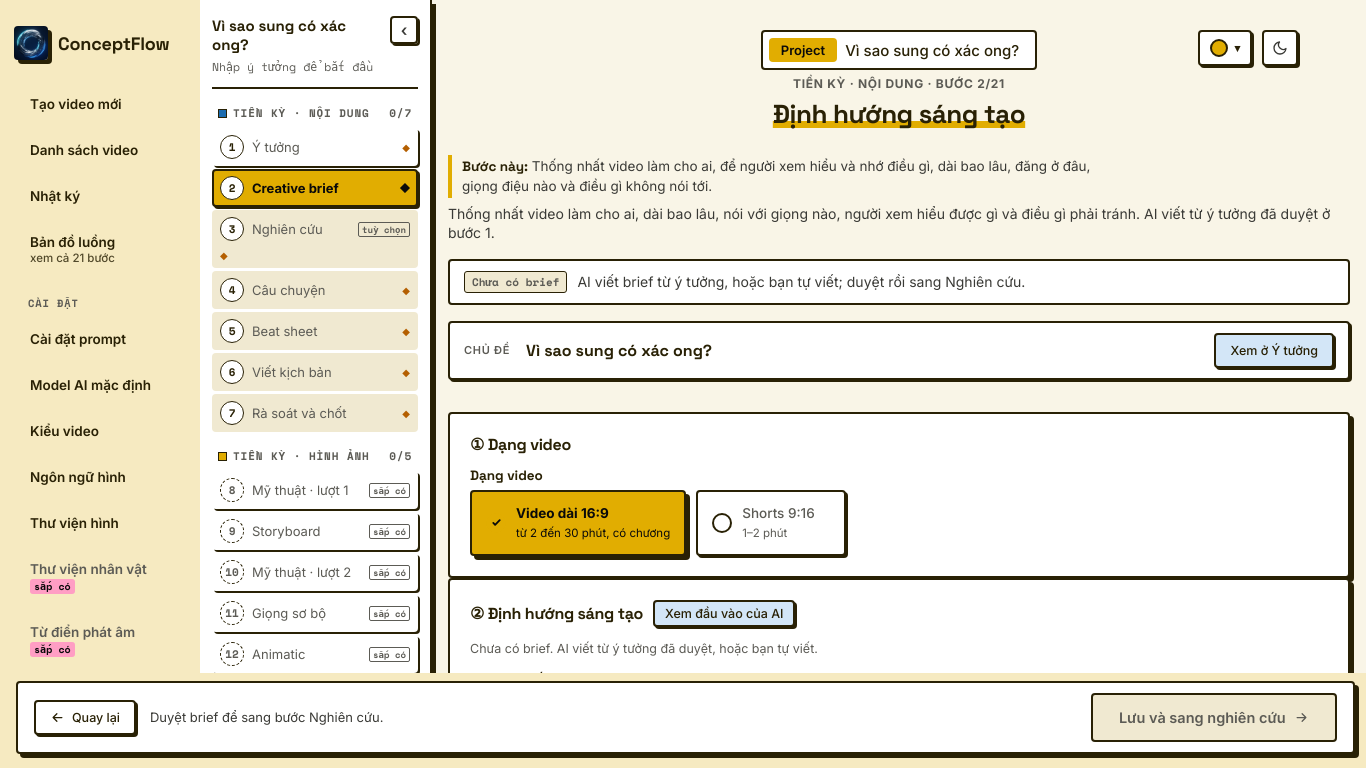
Test: CreativeBriefStepPage (Bước 2 — Creative brief) › báo lỗi khi không lưu được lựa chọn
Click the radio button with test id "video-output-mode-short". click: x=771, y=523
box: [696,490,846,556]
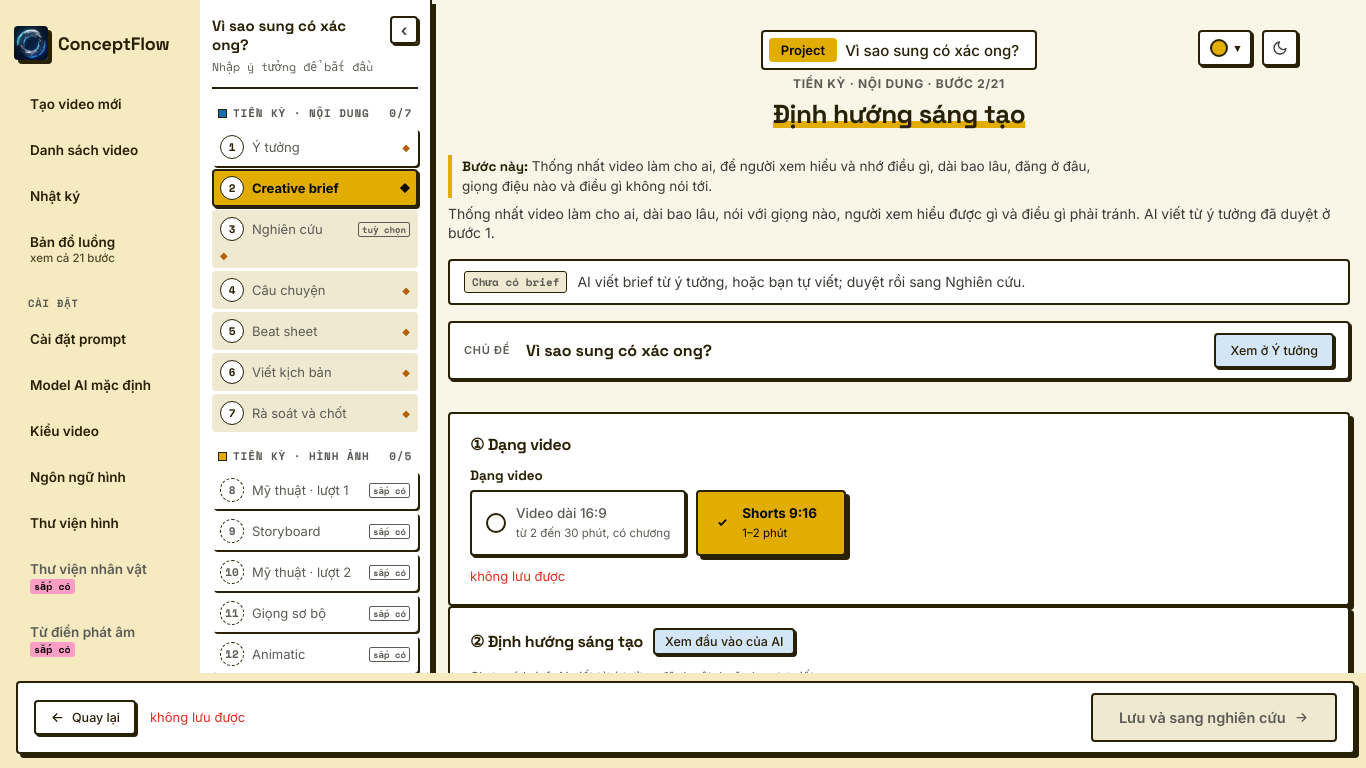
Expected: the message with test id "brief-save-error" reads "không lưu được", [470,568,565,584]
